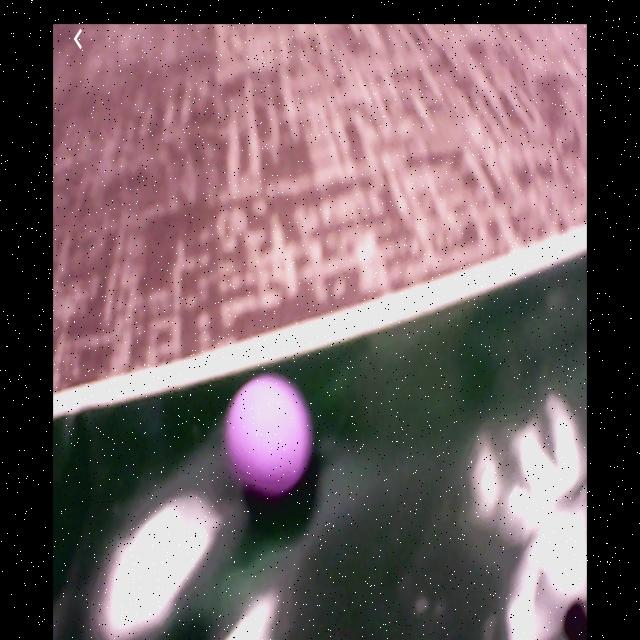ball: (226, 374, 312, 494)
